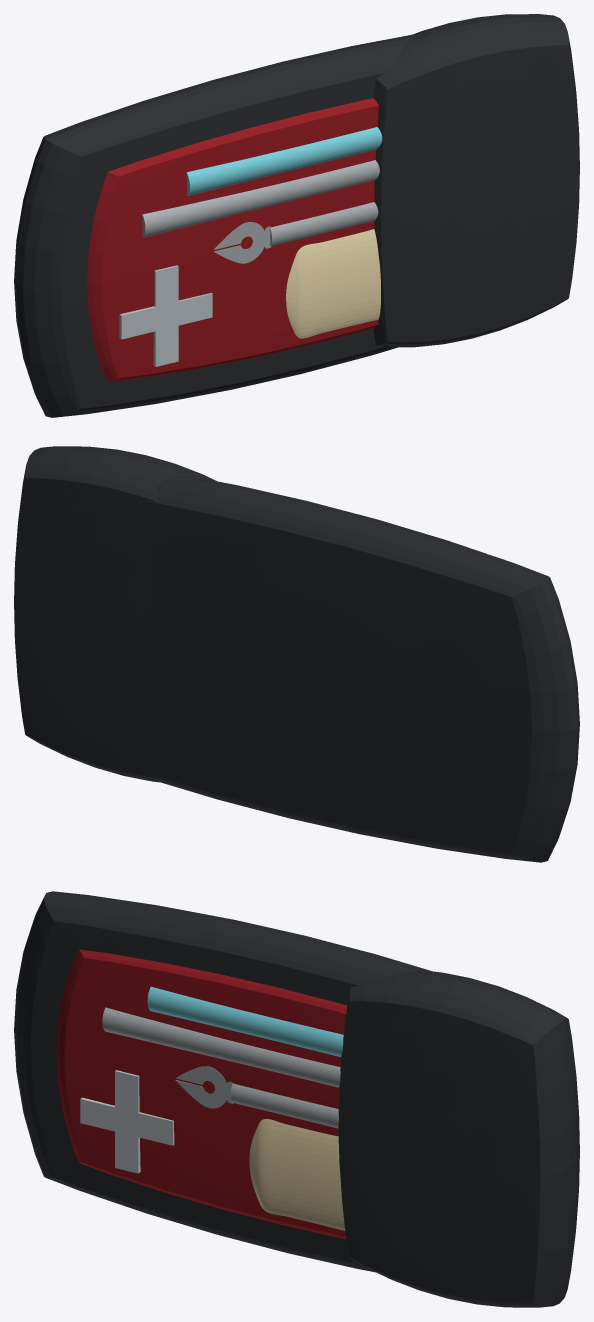
The model's file is tinker.obj.
3 renders of one model, top to bottom at view 1: azimuth 30°, elevation 25°; view 2: azimuth 150°, elevation 25°; view 3: azimuth 330°, elevation 25°, orthographic.
Parts seen in each view (by area): view 1: obj_3, obj_1, obj_2, obj_0, obj_5, obj_4, obj_6, obj_7; view 2: obj_1, obj_3; view 3: obj_3, obj_2, obj_1, obj_0, obj_5, obj_4, obj_6, obj_7.
Part boxes in pixels (x1=…): obj_3: x1=373, y1=14, x2=579, y2=347; obj_1: x1=14, y1=34, x2=415, y2=417; obj_2: x1=87, y1=98, x2=378, y2=382; obj_0: x1=286, y1=229, x2=380, y2=338; obj_5: x1=142, y1=160, x2=379, y2=237; obj_4: x1=186, y1=127, x2=382, y2=196; obj_6: x1=119, y1=265, x2=212, y2=366; obj_7: x1=214, y1=202, x2=378, y2=263; obj_1: x1=141, y1=476, x2=579, y2=862; obj_3: x1=14, y1=446, x2=216, y2=782; obj_3: x1=338, y1=971, x2=579, y2=1307; obj_2: x1=56, y1=949, x2=346, y2=1238; obj_1: x1=14, y1=891, x2=578, y2=1272; obj_0: x1=249, y1=1118, x2=345, y2=1230; obj_5: x1=102, y1=1007, x2=340, y2=1087; obj_4: x1=147, y1=986, x2=343, y2=1056; obj_6: x1=80, y1=1070, x2=174, y2=1173; obj_7: x1=175, y1=1066, x2=338, y2=1128.
Size of the model in its own units: 12.1 by 6.5 by 1.62.
